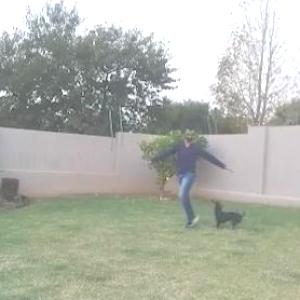land: (157, 122, 236, 216)
